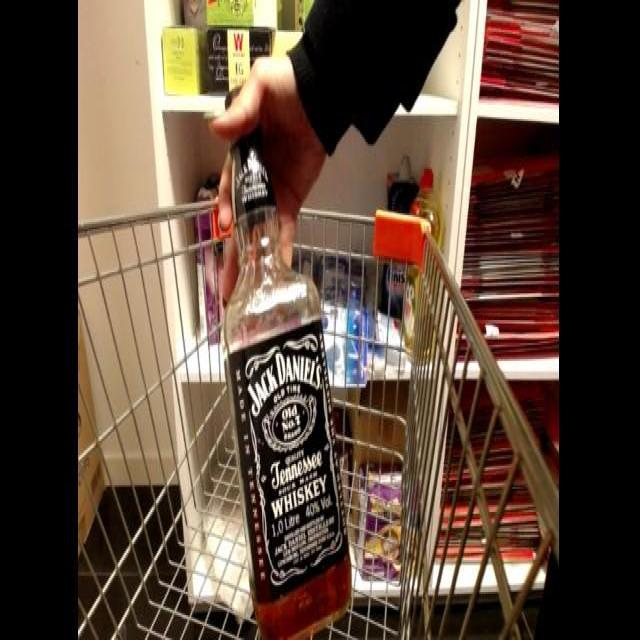Jack Daniels: (231, 64, 358, 640)
